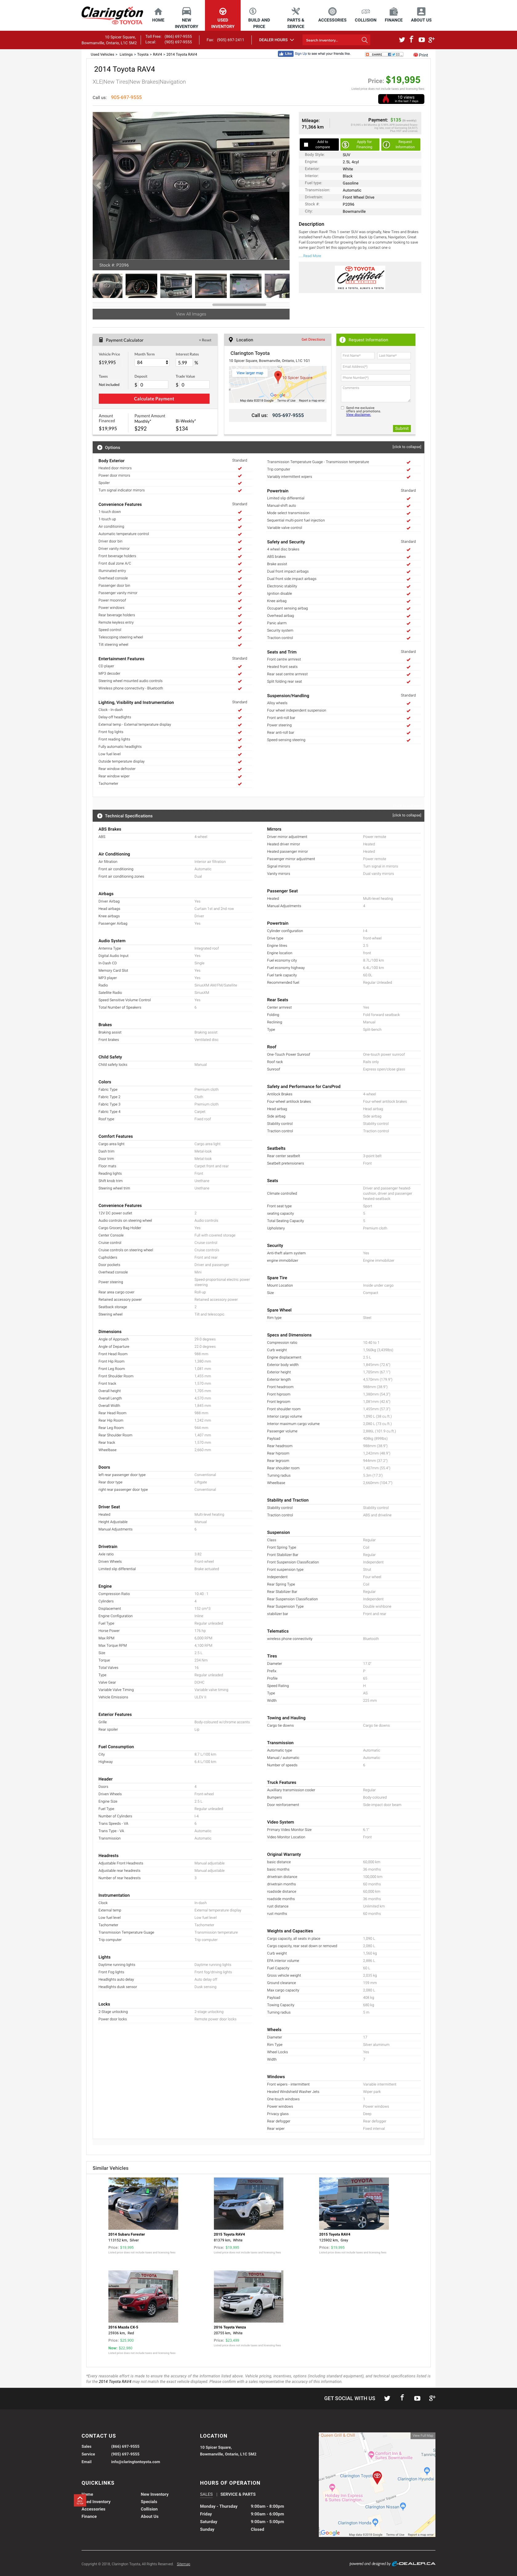car: (277, 179, 291, 194)
